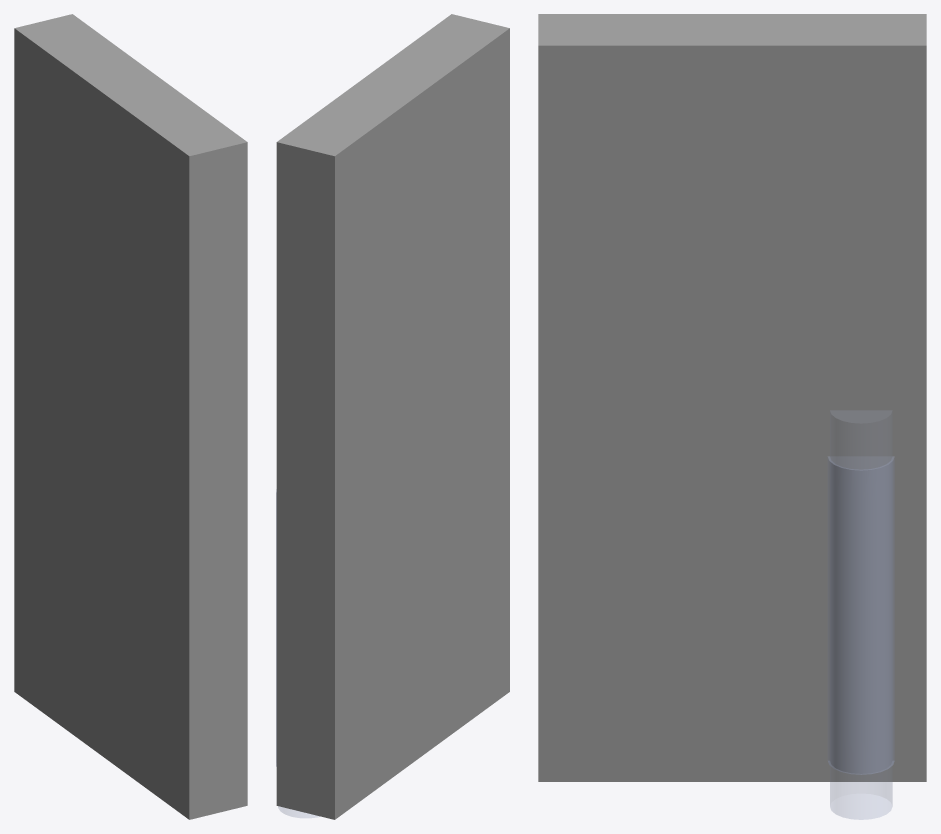
The model's file is 레인스틱half.fbx.
3 renders of one model, left to right at view 1: azimuth 30°, elevation 25°; view 2: azimuth 150°, elevation 25°; view 3: azimuth 270°, elevation 25°, orthographic. The views are drawn at different scales.
Visible parts, largest first — view 1: pCube1; view 2: pCube1; view 3: pCube1, polySurface1, pCylinder1, pCylinder2.
Part boxes in pixels (x1,y1,x2,y2): pCube1: (14, 14, 247, 819); pCube1: (276, 14, 509, 819); pCube1: (538, 14, 926, 781); polySurface1: (827, 456, 894, 774); pCylinder1: (828, 457, 894, 774); pCylinder2: (830, 411, 892, 819).
Size of the model in its own units: 3.22 by 25.02 by 11.57.
